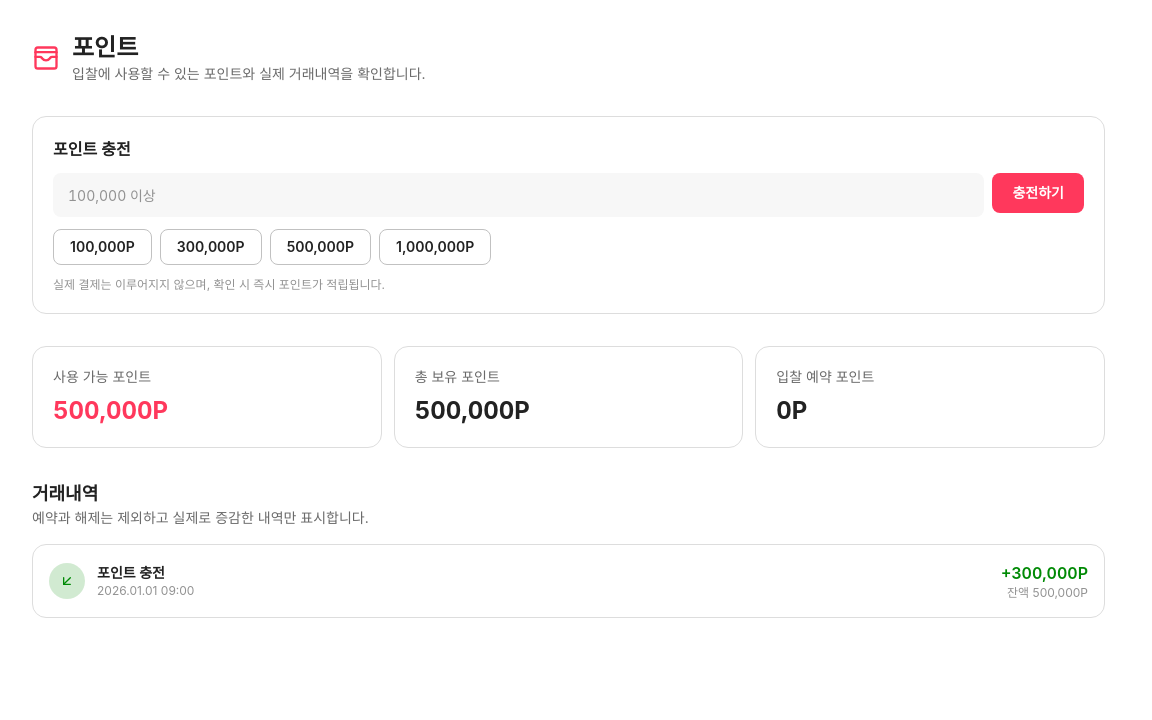
Test case: 포인트 충전 › 최소금액보다_적은_금액을_입력하면_확인_모달이_열리지_않는다
Type "1000" into the field with placeholder "100,000 이상" at (519,195), box [53,173,984,217]
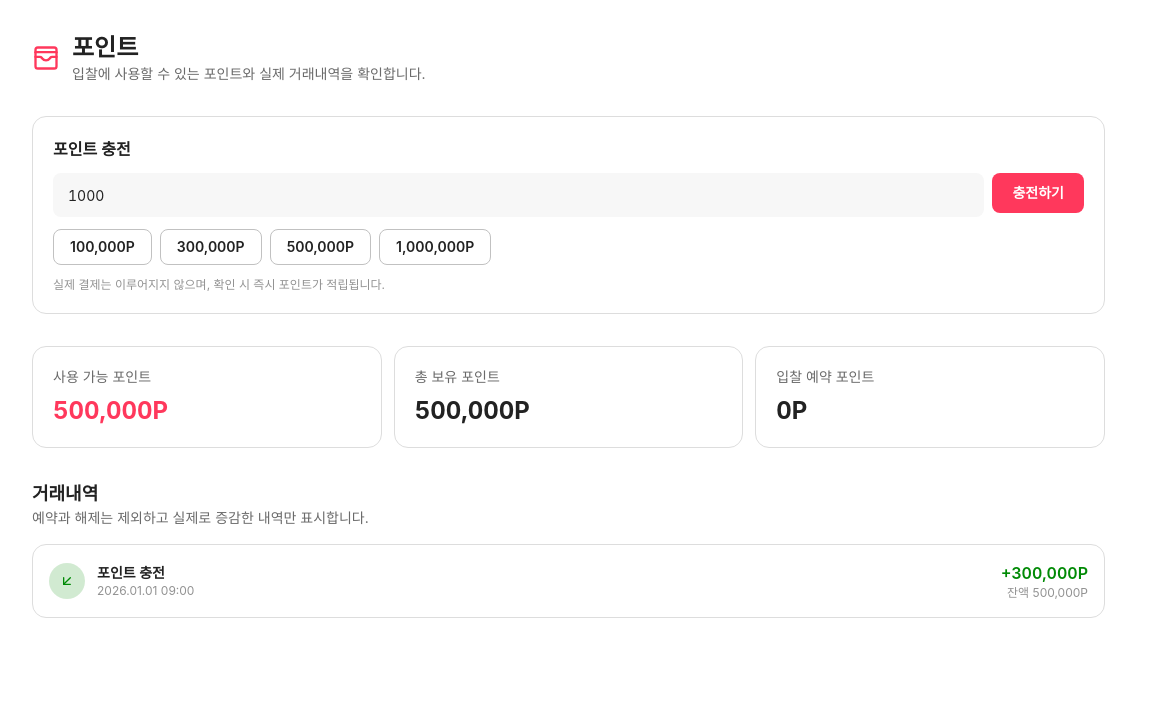
Click the button "충전하기" at (1038,193), box [992,173,1084,213]
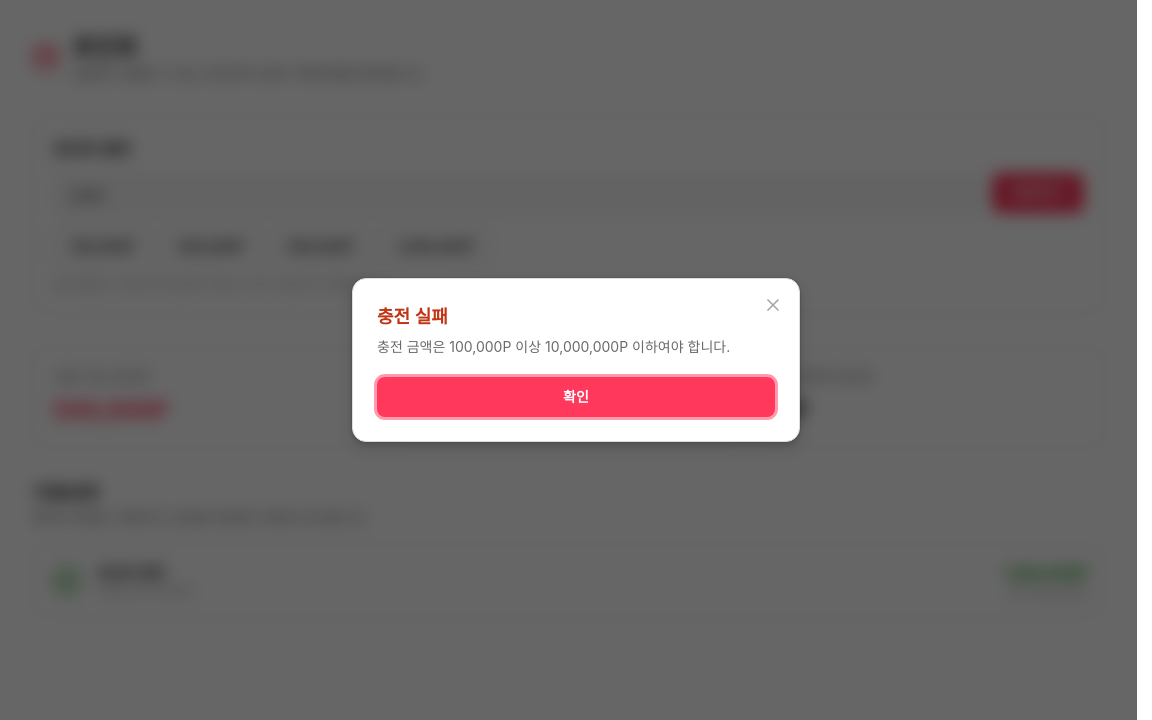
Check: the heading "충전 실패" is shown, box [377,306,448,327]
